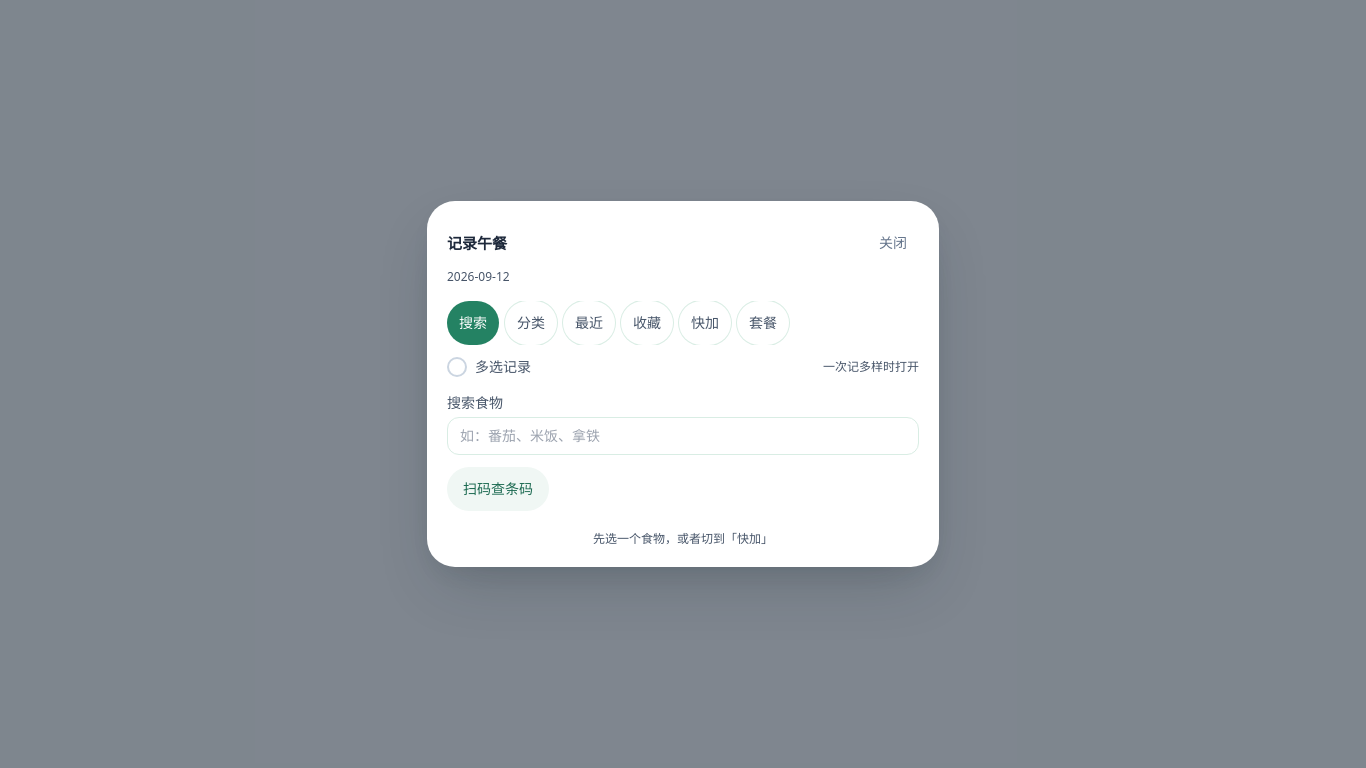
Test: D-2 重复记录温和提示 › 快加路径同源命中：名称与今天这一餐已记的自定义条目同名 → 提示
Click the tab "快加" at (705, 323), box [679,301,731,345]
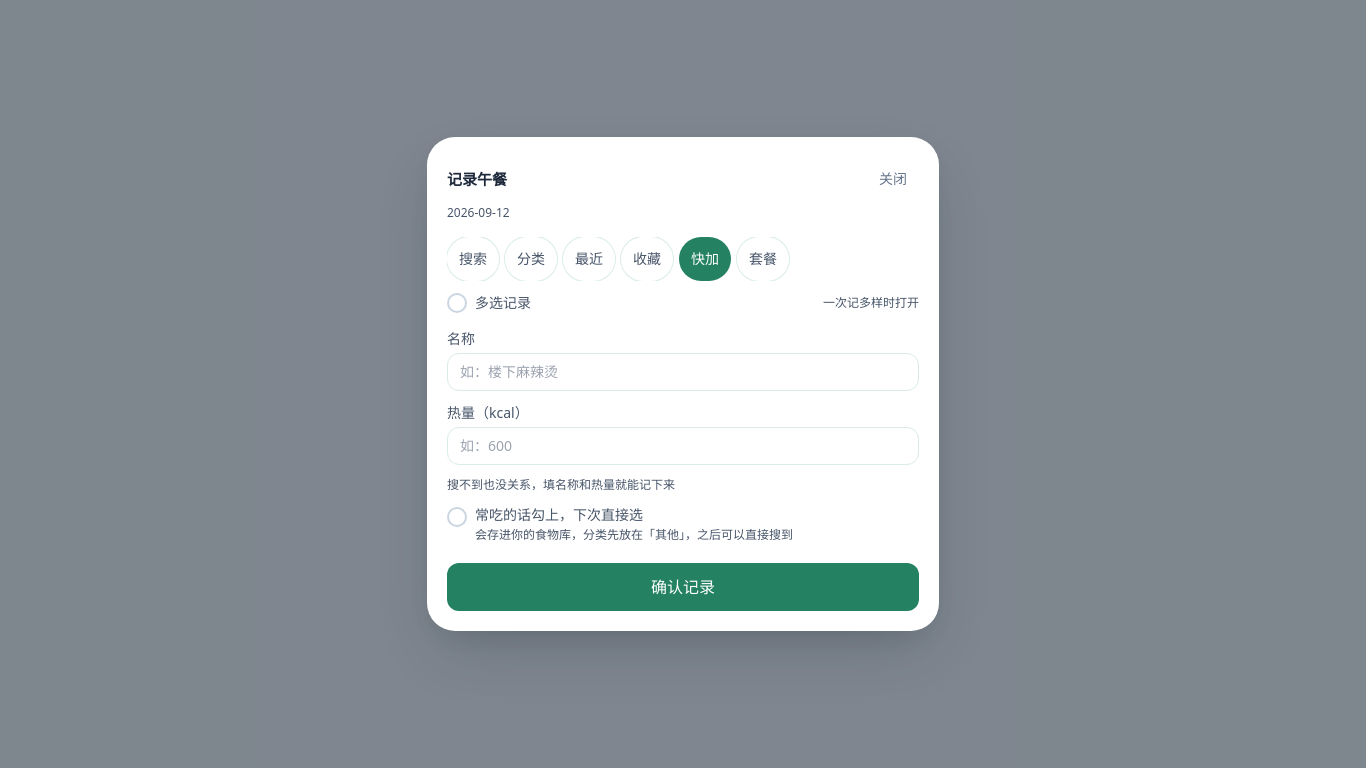
Type "楼下麻辣烫" into the field with placeholder "如：楼下麻辣烫" at (683, 372), box [447,353,919,391]
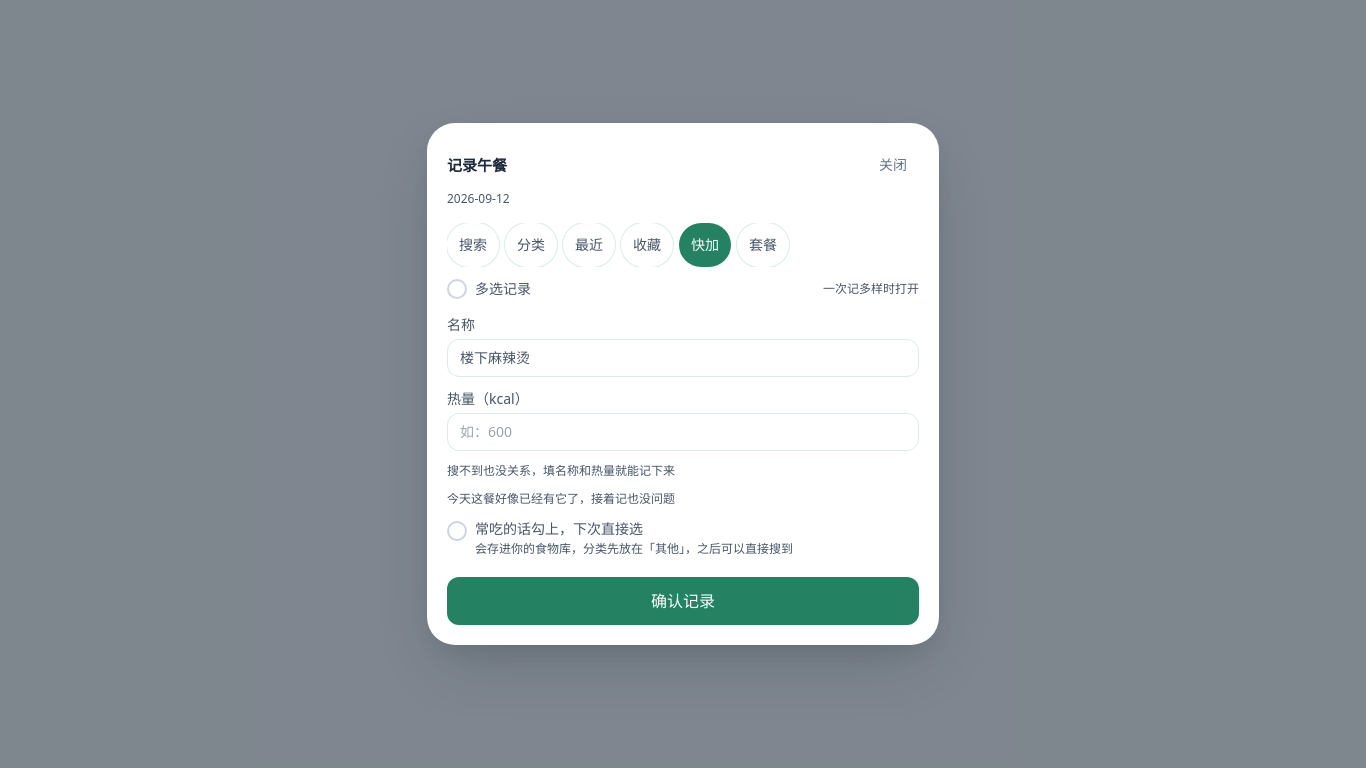
Expected: the text "今天这餐好像已经有它了，接着记也没问题" is shown, [447,490,675,507]
